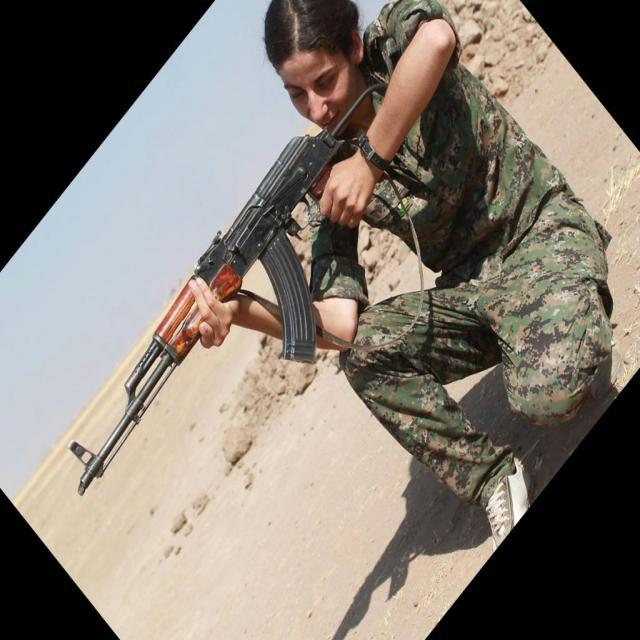weapon: (68, 80, 389, 500)
